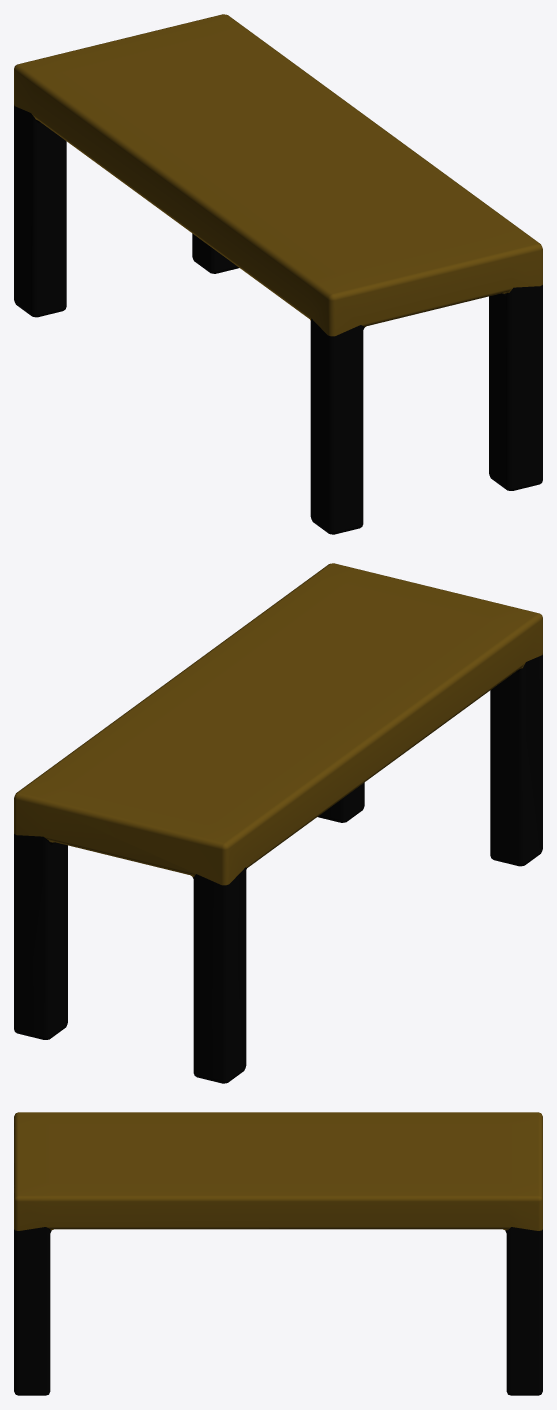
File: Bank_New.fbx
3 renders of one model, top to bottom at view 1: azimuth 30°, elevation 25°; view 2: azimuth 150°, elevation 25°; view 3: azimuth 270°, elevation 25°, orthographic. The views are drawn at different scales.
Visible parts, largest first — view 1: Banknew; view 2: Banknew; view 3: Banknew.
Part boxes in pixels (x1,y1,x2,y2): Banknew: (14, 14, 542, 534); Banknew: (14, 563, 542, 1083); Banknew: (14, 1112, 542, 1395).
Size of the model in its own units: 0.6811 by 0.7305 by 1.75.
